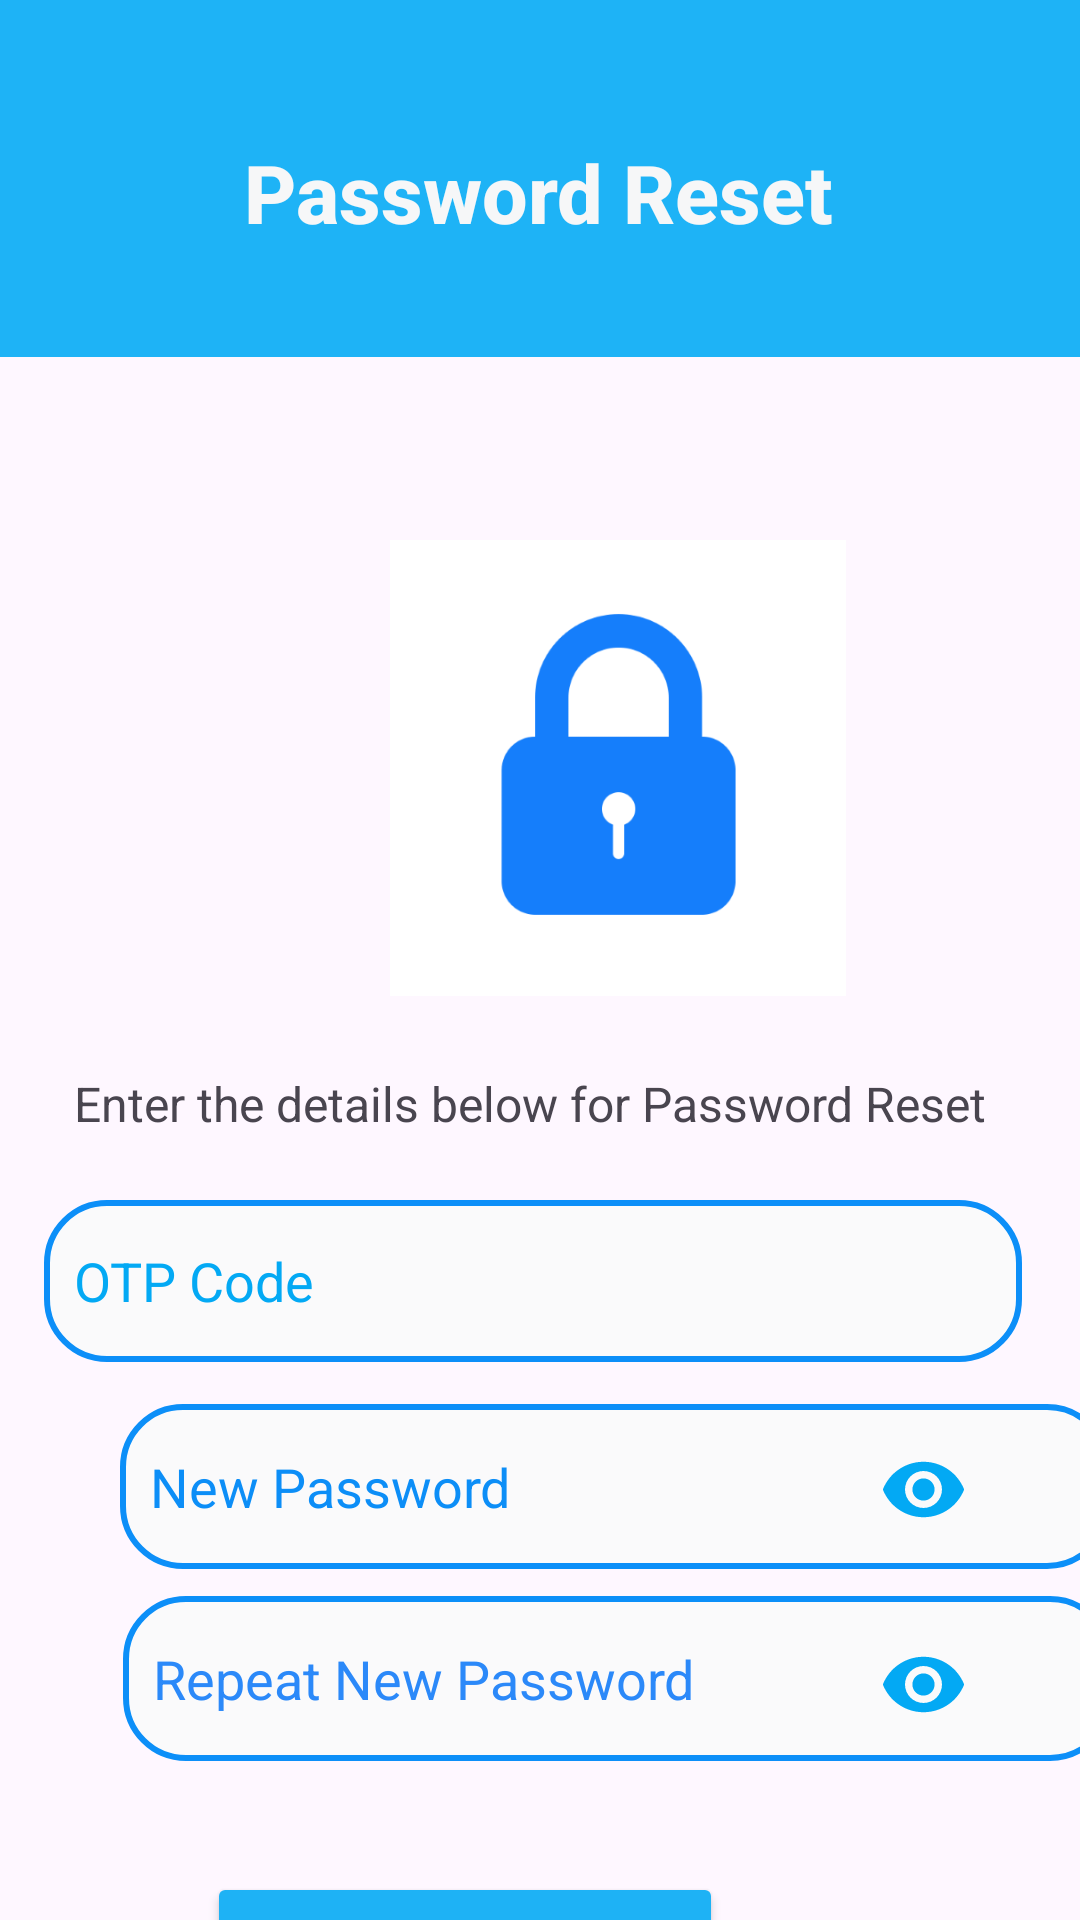

Where to tap for icons on this 1080px×1920px app screen, as [x,y]:
eye: [923,1489], [923,1684]
